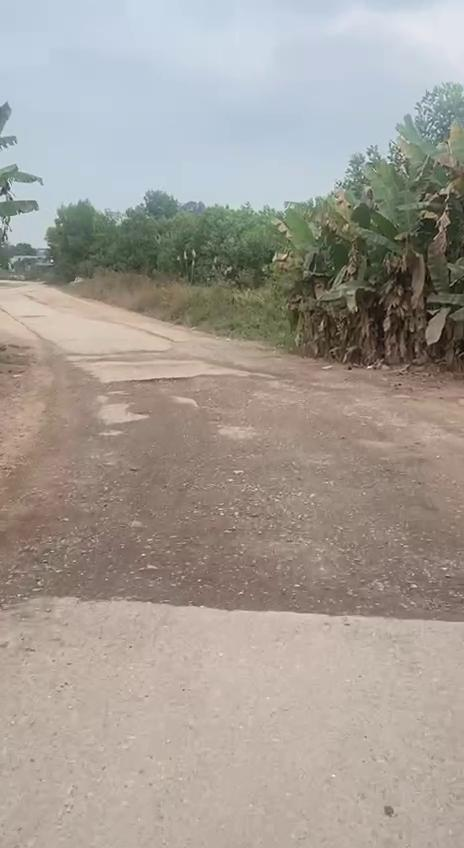pothole: (0, 525, 94, 597), (396, 572, 464, 628), (108, 373, 198, 394)
